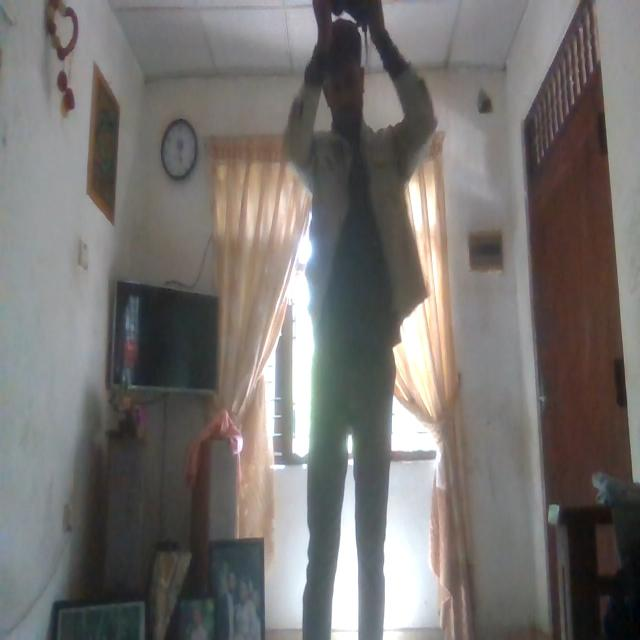Jacket_Wearer: (278, 61, 432, 322)
Person: (274, 2, 430, 640)
